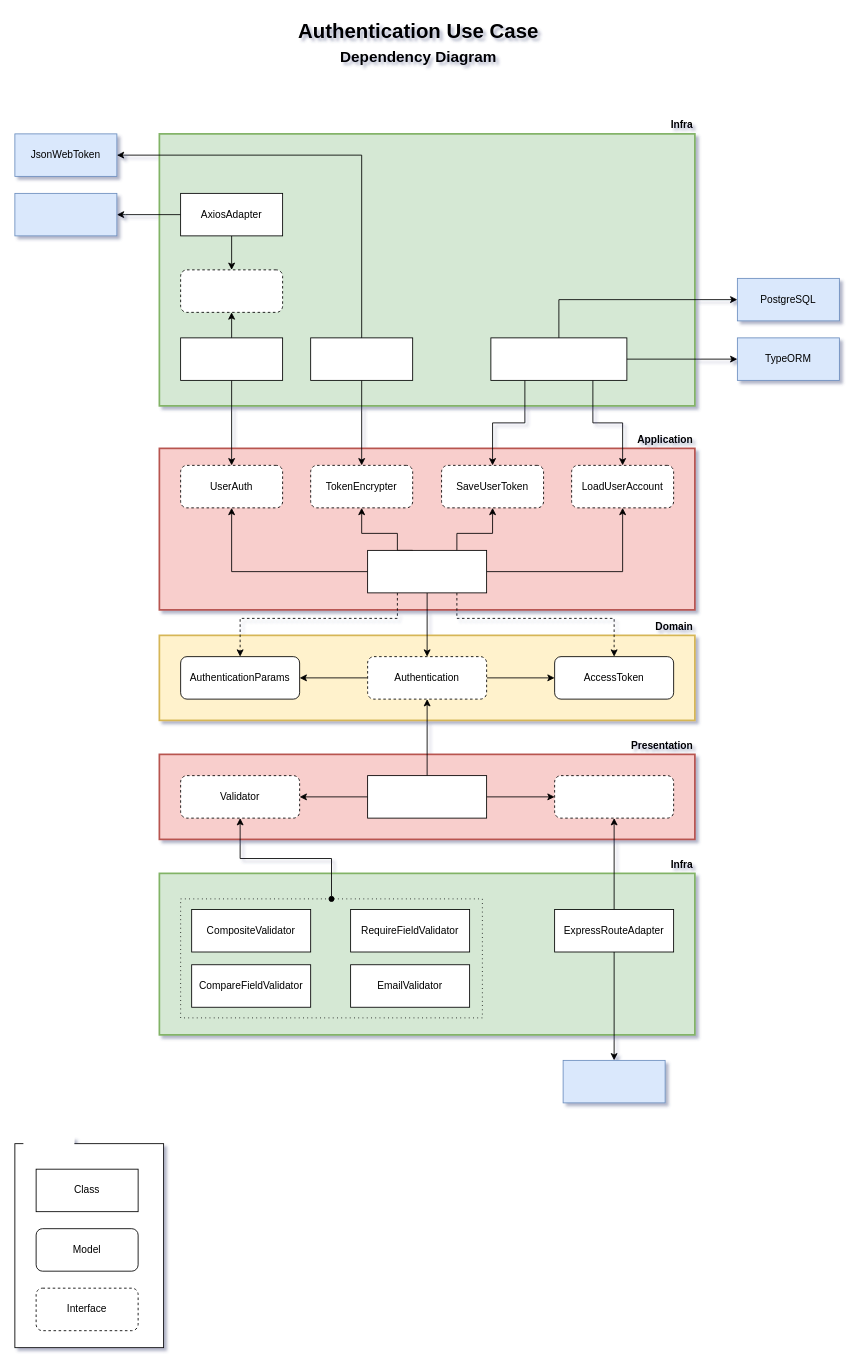
This 859x1368 diagram has some shape labels left out. Here are the shapes that lost their labels. From the top down, the centre of each, then its label:
At point 65,214: "Axios".
At point 231,290: "HttpClient".
At point 231,358: "GoogleAuth".
At point 361,358: "JwtAdapter".
At point 558,358: "UserAccountRepository".
At point 427,571: "AuthenticationService".
At point 427,796: "LoginController".
At point 614,796: "Controller".
At point 613,1081: "Express".
At point 48,1142: "Legend".
